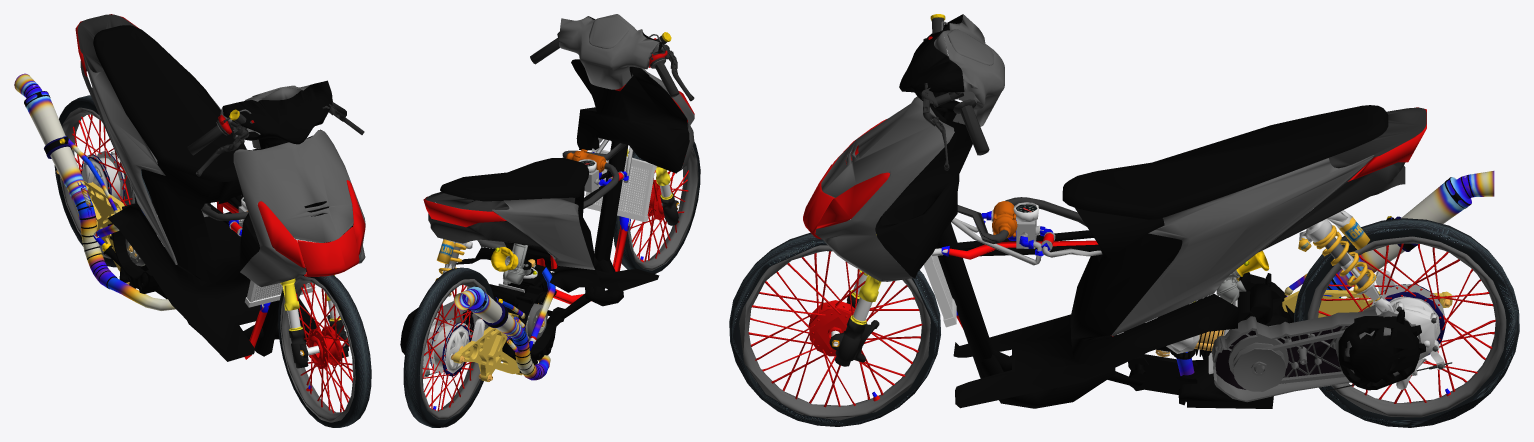
The model's file is Beat.fbx.
The picture shows the model from 3 angles, left to right: view 1: azimuth 30°, elevation 25°; view 2: azimuth 150°, elevation 25°; view 3: azimuth 270°, elevation 25°; orthographic projection. The views are drawn at different scales.
Visible parts, largest first — view 1: badan_chassis, ban_depan_wheel_front, steer_stang, ban_belakang_wheel_rear, rear_forks_rear, axle_depan_mudguard; view 2: badan_chassis, ban_belakang_wheel_rear, steer_stang, rear_forks_rear, ban_depan_wheel_front, axle_depan_mudguard; view 3: badan_chassis, rear_forks_rear, ban_belakang_wheel_rear, ban_depan_wheel_front, steer_stang, axle_depan_mudguard.
Part boxes in pixels (x1,y1,x2,y2): badan_chassis: (14,14,365,361); ban_depan_wheel_front: (278,268,371,427); steer_stang: (187,80,364,176); ban_belakang_wheel_rear: (54,95,151,267); rear_forks_rear: (56,151,208,298); axle_depan_mudguard: (280,275,348,368); badan_chassis: (423,59,694,380); ban_belakang_wheel_rear: (403,267,494,427); steer_stang: (530,14,694,101); rear_forks_rear: (400,239,565,381); ban_depan_wheel_front: (613,141,700,273); axle_depan_mudguard: (626,149,679,225); badan_chassis: (803,96,1494,408); rear_forks_rear: (1128,208,1452,408); ban_belakang_wheel_rear: (1294,218,1519,427); ban_depan_wheel_front: (729,232,940,426); steer_stang: (899,14,1004,170); axle_depan_mudguard: (829,234,881,366).
Size of the model in its own units: 0.647 by 2.05 by 1.13.
Materials: 73 (27 with a texture image).
